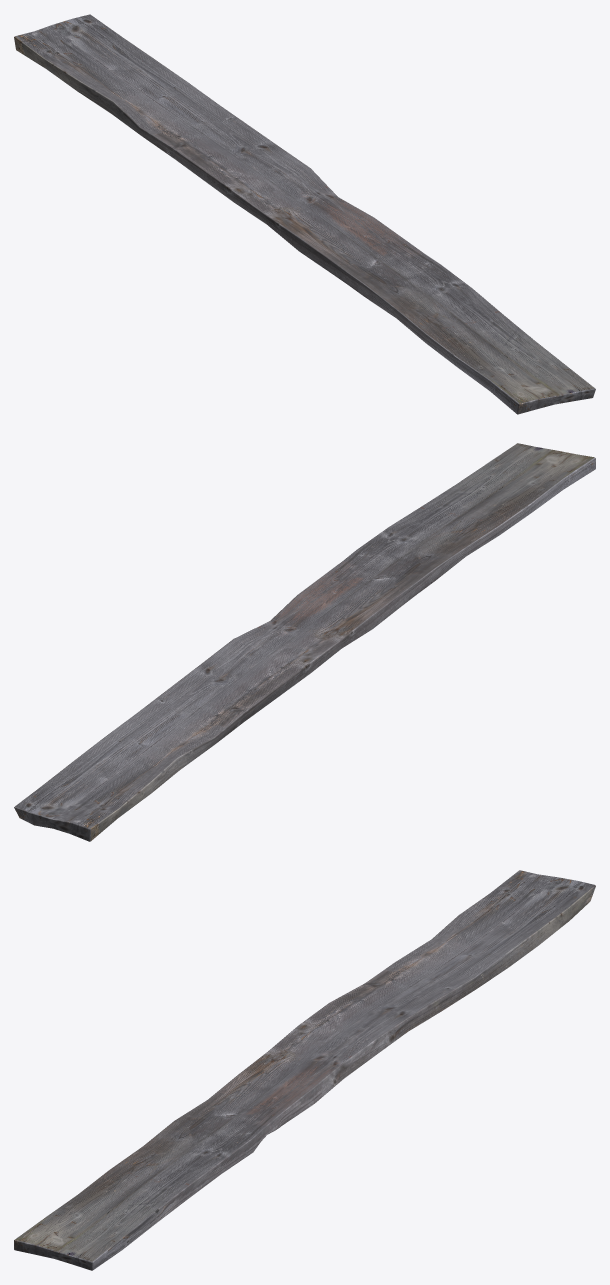
File: sm_WoodPlank_02_02.fbx
The picture shows the model from 3 angles, top to bottom: view 1: azimuth 30°, elevation 25°; view 2: azimuth 150°, elevation 25°; view 3: azimuth 330°, elevation 25°; orthographic projection.
Parts seen in each view (by area): view 1: sm_WoodPlank_02_02_LOD0; view 2: sm_WoodPlank_02_02_LOD0; view 3: sm_WoodPlank_02_02_LOD0.
Part boxes in pixels (x1=…): sm_WoodPlank_02_02_LOD0: x1=14, y1=14, x2=595, y2=414; sm_WoodPlank_02_02_LOD0: x1=14, y1=443, x2=595, y2=841; sm_WoodPlank_02_02_LOD0: x1=14, y1=870, x2=595, y2=1270.
Size of the model in its own units: 28.38 by 300 by 8.14.
